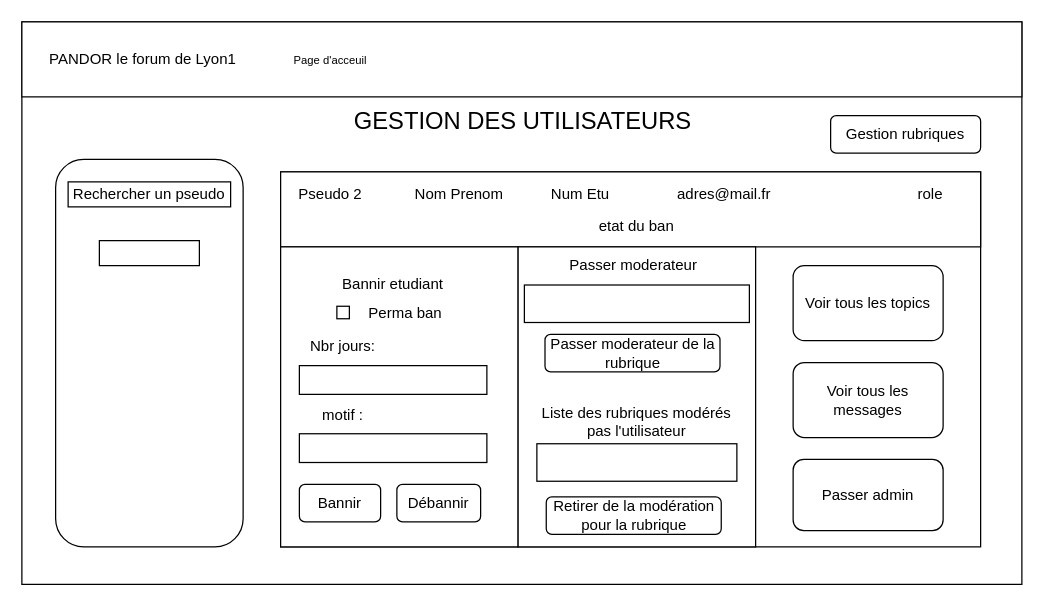
Image size: 1044x606. Some labels were removed from this diagram. Each missing label, with the box of its shape:
Pseudo1 Pseudo2 Pseudo3: (98, 239, 199, 266)
Rubrique (liste deroulante): (523, 284, 749, 322)
Rubrique modérées (liste deroulante): (536, 442, 737, 481)
